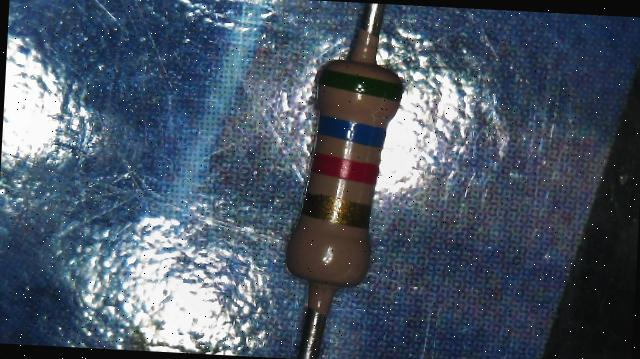blue: (315, 114, 386, 146)
gold: (302, 194, 371, 223)
green: (316, 68, 404, 100)
red: (310, 155, 377, 181)
resistor: (255, 28, 431, 316)
